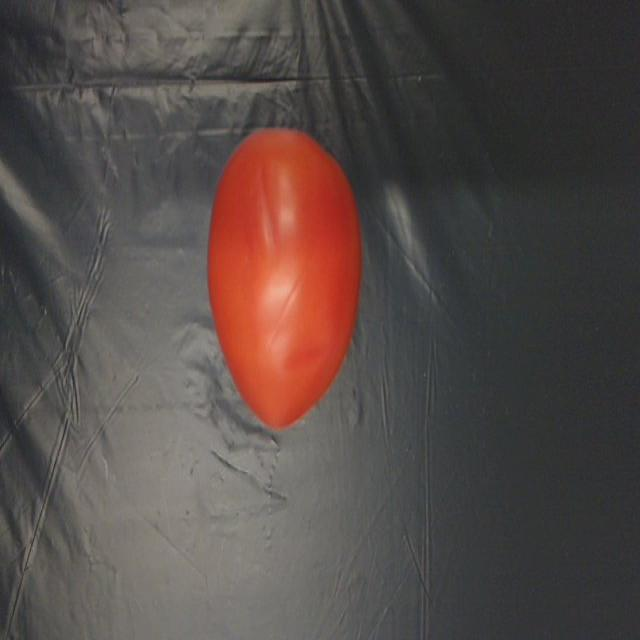kirmizi: (201, 109, 373, 436)
